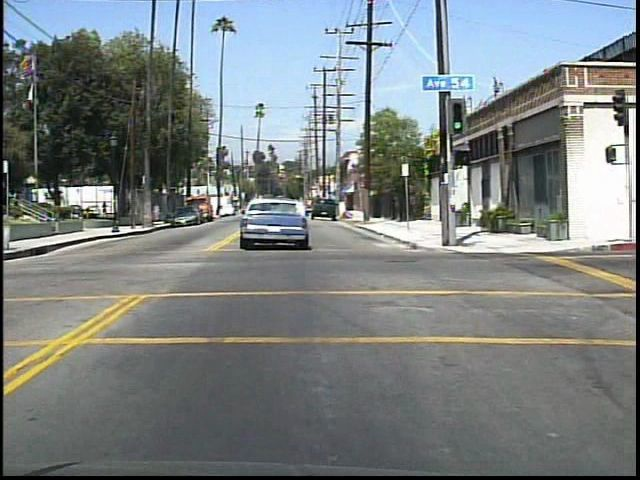person: (122, 197, 134, 220), (152, 201, 162, 227), (100, 199, 110, 220)
